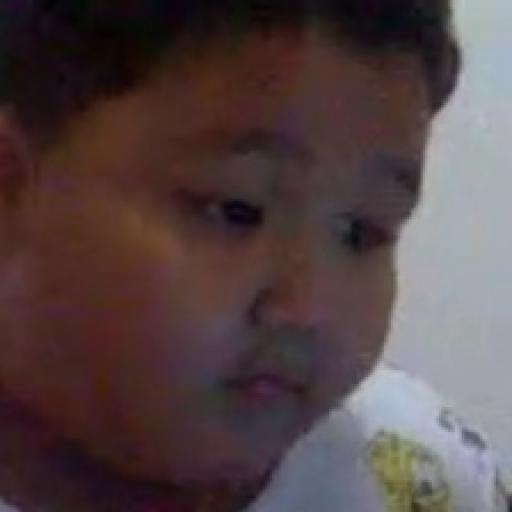Autism: (27, 14, 429, 506)
